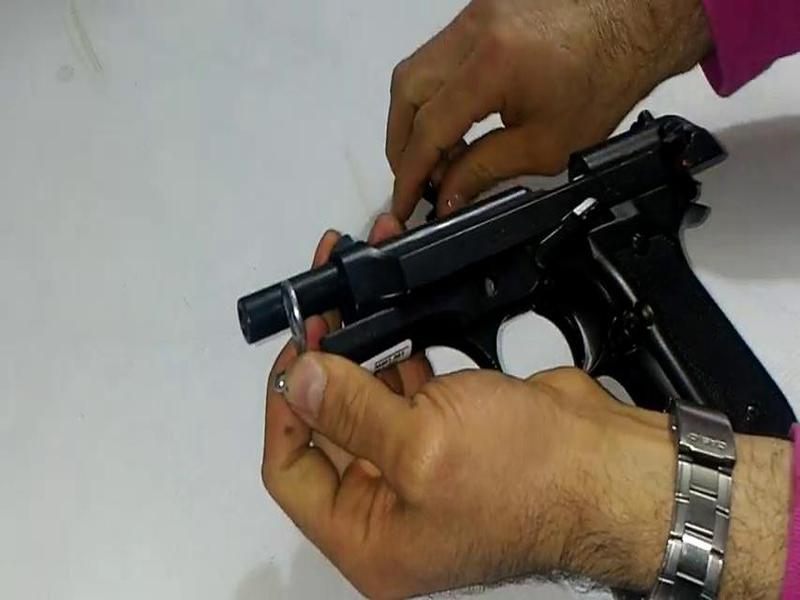Pistola: (202, 91, 800, 532)
